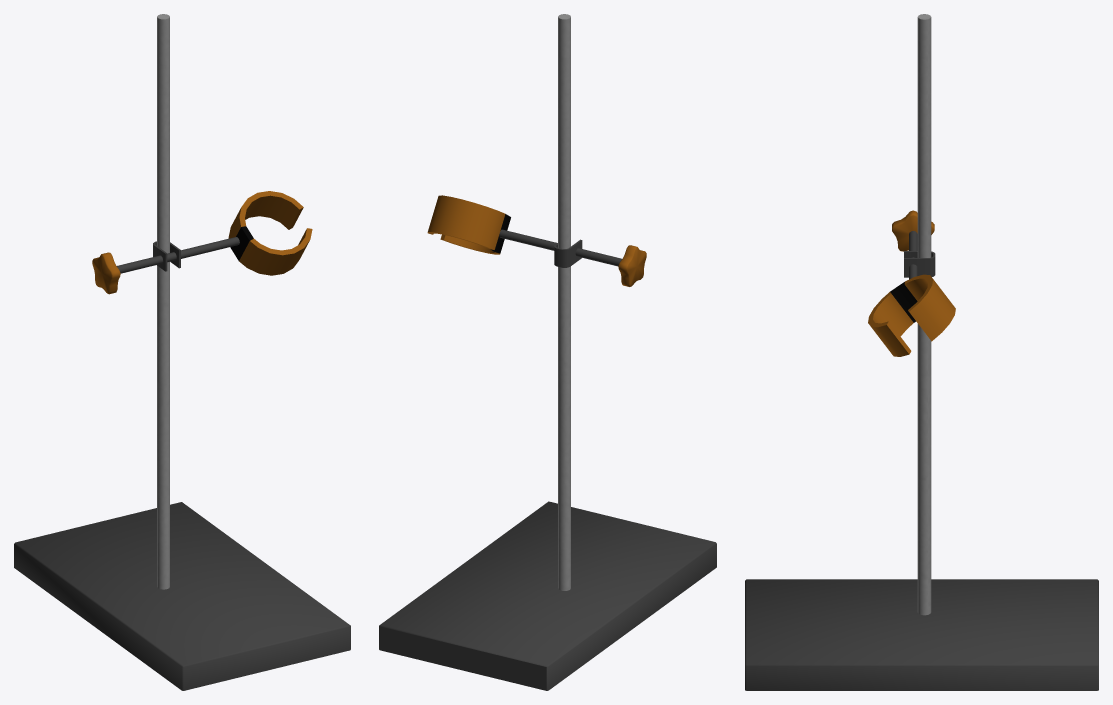
The model's file is SM_凯式定氮仪夹子_001.fbx.
The picture shows the model from 3 angles, left to right: view 1: azimuth 30°, elevation 25°; view 2: azimuth 150°, elevation 25°; view 3: azimuth 270°, elevation 25°; orthographic projection. The views are drawn at different scales.
Visible parts, largest first — view 1: SM_凯式定氮仪夹子_001; view 2: SM_凯式定氮仪夹子_001; view 3: SM_凯式定氮仪夹子_001.
Boxes of the visible parts, x1,y1,x2,y2 form: SM_凯式定氮仪夹子_001: (14,14,350,690); SM_凯式定氮仪夹子_001: (379,14,716,690); SM_凯式定氮仪夹子_001: (745,14,1098,690).
Size of the model in its own units: 0.1815 by 0.5167 by 0.2663.
